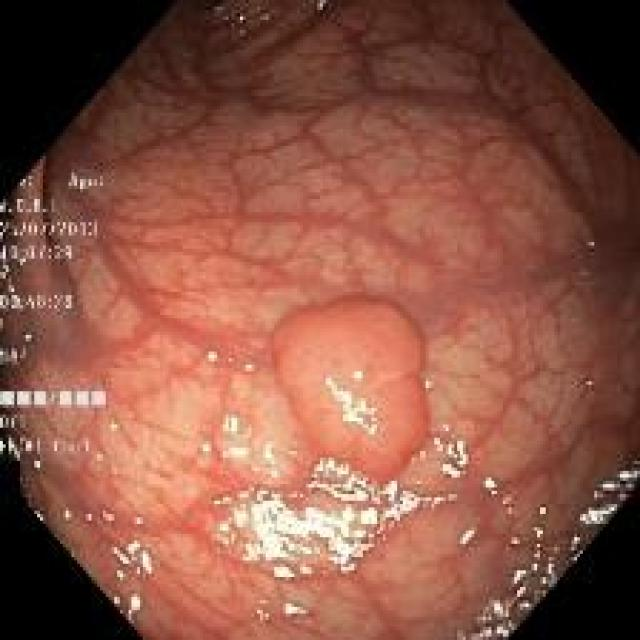Polyps: (272, 299, 429, 482)
